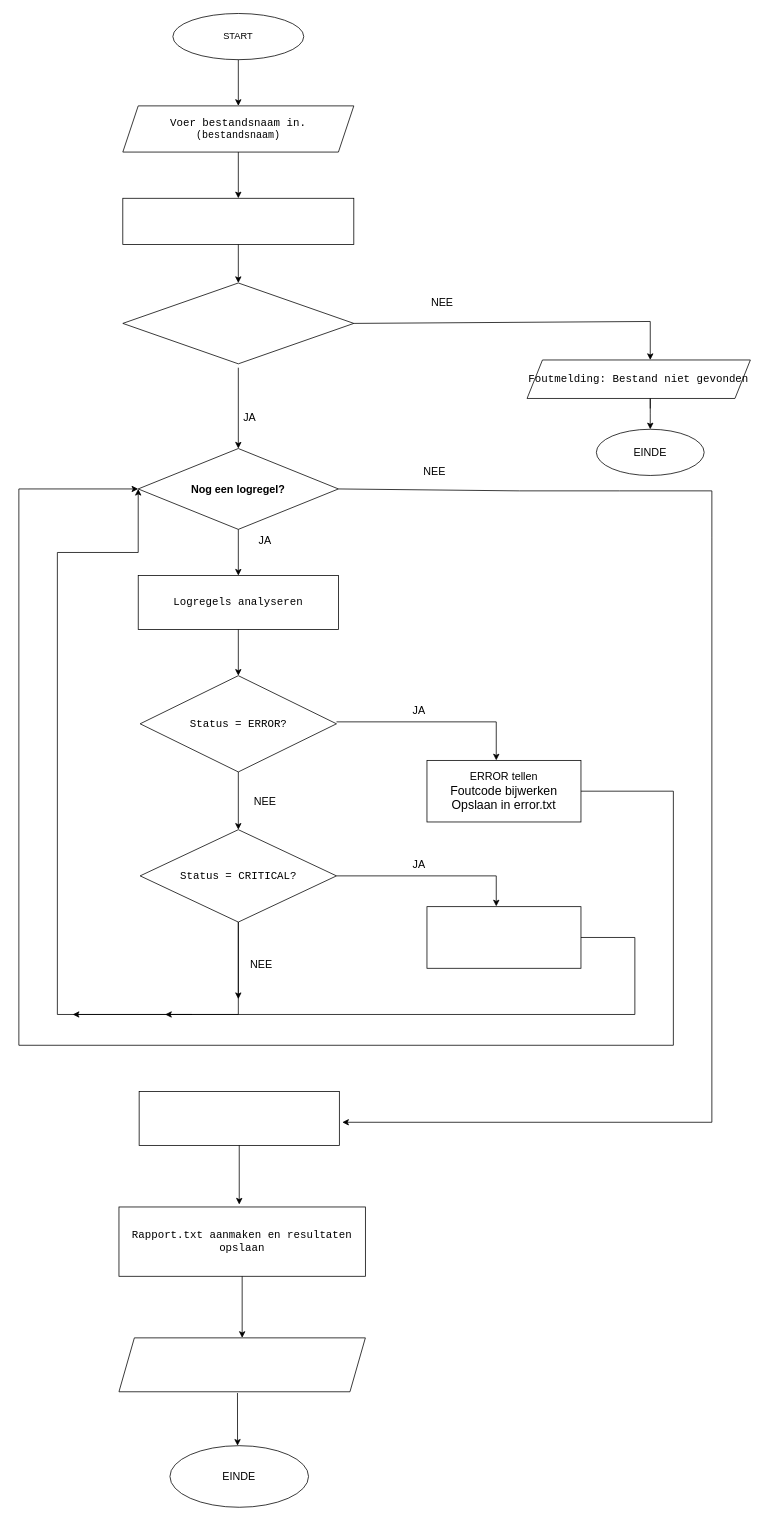
The diagram is 764 pixels wide and 1521 high, and some of its shapes have lost their labels. The centre of each missing label's shape, as x and y in pixels:
"Analyse voltooid!" belongs at pixel 241 1364.
"Bestand gevonden?" belongs at pixel 238 323.
"Bestand openen en regels lezen" belongs at pixel 238 221.
"CRITICAL tellen Foutcode bijwerken Opslaan in critical.txt" belongs at pixel 503 937.
"Meest voorkomende foutcode bepalen" belongs at pixel 238 1118.
